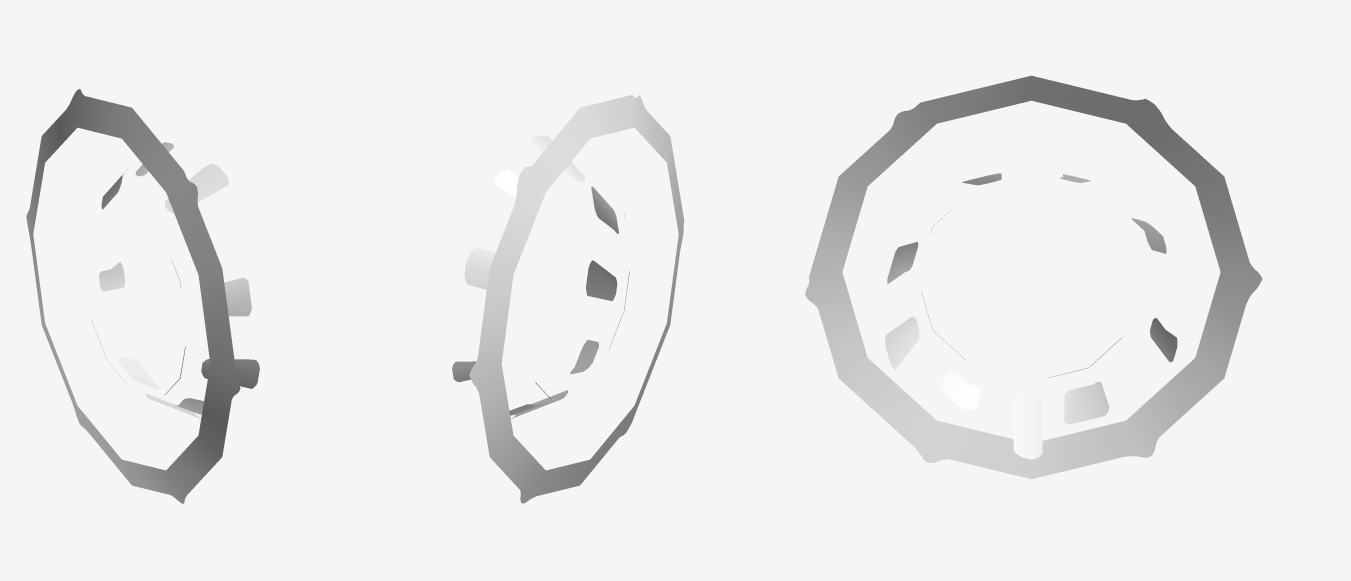
File: fx_landedhit.fbx
3 renders of one model, left to right at view 1: azimuth 30°, elevation 25°; view 2: azimuth 150°, elevation 25°; view 3: azimuth 270°, elevation 25°, orthographic. The views are drawn at different scales.
Visible parts, largest first — view 1: FX_speedlines, FX_speedlines.2; view 2: FX_speedlines, FX_speedlines.2; view 3: FX_speedlines, FX_speedlines.2.
Boxes of the visible parts, left/top/right/bottom form: FX_speedlines: left=26, top=89, right=240, bottom=503; FX_speedlines.2: left=91, top=142, right=259, bottom=418; FX_speedlines: left=469, top=95, right=684, bottom=503; FX_speedlines.2: left=452, top=135, right=629, bottom=418; FX_speedlines: left=805, top=75, right=1262, bottom=479; FX_speedlines.2: left=885, top=173, right=1177, bottom=459.
Bounding box in the file's own units: 146 × 551 × 551.
1 material, 1 textured.
